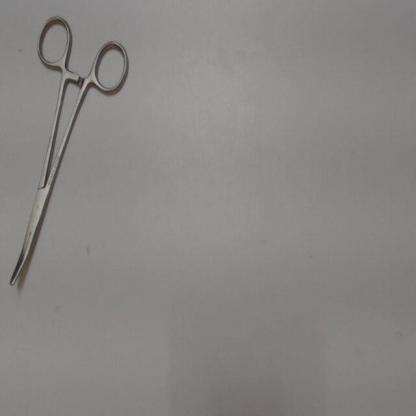Crile Artery Forceps: (3, 11, 134, 296)
